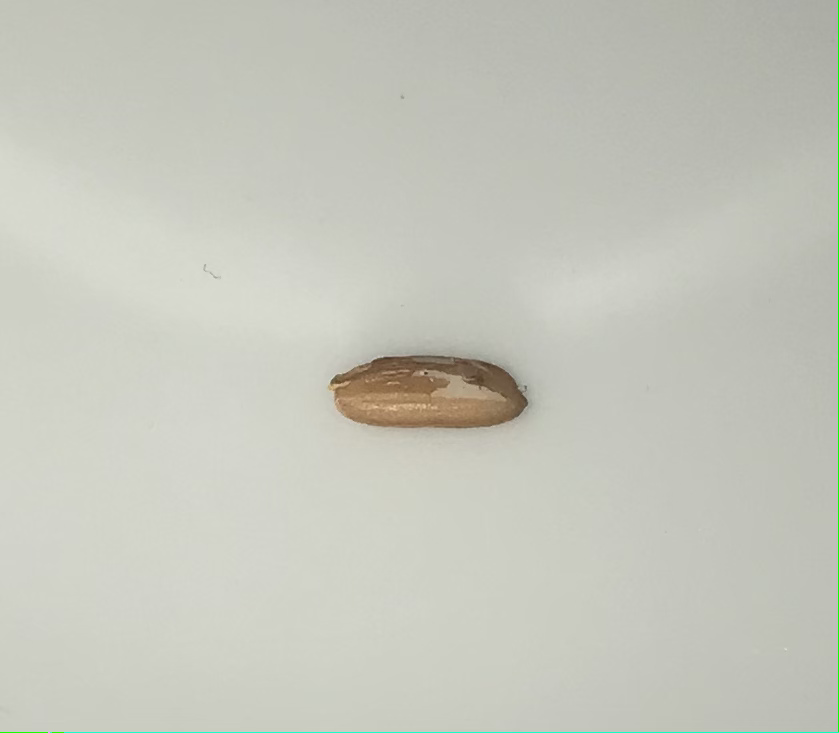Gao Lut Dien Bien: (329, 343, 535, 437)
